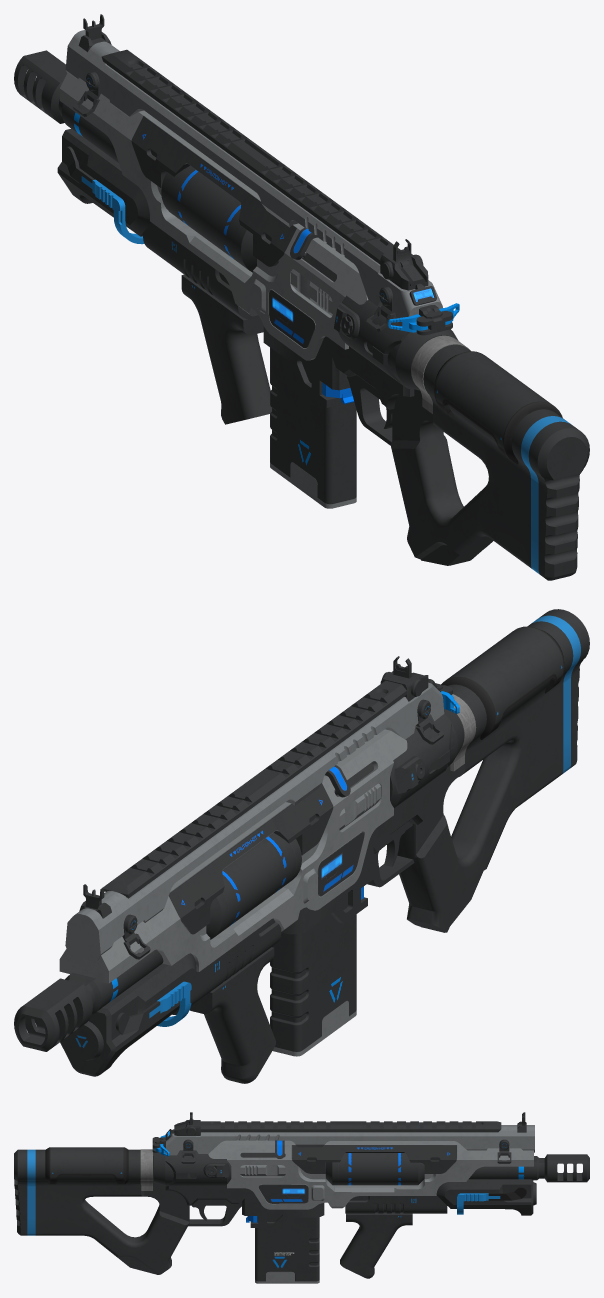
Rendered from nanite_systems_assault_rifle.glb.
3 views of the same model, one above another, from view 1: azimuth 30°, elevation 25°; view 2: azimuth 150°, elevation 25°; view 3: azimuth 270°, elevation 25° (orthographic). The views are drawn at different scales.
Parts seen in each view (by area): view 1: Cylinder.001_low, Cube.008_low, Cube.053_low, Cube.031_low, Cube.037_low, Cylinder.011_low, Slice.010_high.001, Cube.043_low, Slice.022_low, Cube.028_low, Cylinder.005_low, Cutter.080_low (+15 smaller); view 2: Cylinder.001_low, Cube.008_low, Cube.053_low, Cube.031_low, Cube.037_low, Cylinder.011_low, Slice.010_high.001, Cylinder.005_low, Cube.028_low, Slice.022_low, Cube.043_low, Cutter.080_low (+18 smaller); view 3: Cylinder.001_low, Cube.008_low, Cube.053_low, Cube.031_low, Cube.037_low, Slice.010_high.001, Cylinder.011_low, Slice.022_low, Cube.028_low, Cylinder.005_low, Cube.043_low, Cutter.080_low (+18 smaller).
Boxes of the visible parts, x1,y1,x2,y2 form: Cylinder.001_low: (391,341,589,580); Cube.008_low: (60,73,348,360); Cube.053_low: (65,30,442,326); Cube.031_low: (270,347,356,503); Cube.037_low: (101,49,400,264); Cylinder.011_low: (434,351,562,464); Slice.010_high.001: (131,114,302,266); Cube.043_low: (181,274,271,424); Slice.022_low: (167,166,242,265); Cube.028_low: (57,128,151,236); Cylinder.005_low: (14,50,118,162); Cutter.080_low: (143,222,259,319); Cylinder.001_low: (397,609,589,932); Cube.008_low: (59,751,393,983); Cube.053_low: (65,682,444,960); Cube.031_low: (270,893,356,1051); Cube.037_low: (102,680,406,898); Cylinder.011_low: (441,626,564,739); Slice.010_high.001: (168,783,333,934); Cylinder.005_low: (14,949,163,1051); Cube.028_low: (60,953,196,1076); Slice.022_low: (220,832,296,932); Cube.043_low: (190,947,275,1083); Cutter.080_low: (172,918,281,1014); Cylinder.001_low: (14,1149,189,1274); Cube.008_low: (227,1142,533,1209); Cube.053_low: (166,1125,534,1155); Cube.031_low: (255,1213,319,1281); Cube.037_low: (200,1121,501,1132); Slice.010_high.001: (291,1141,456,1173); Cylinder.011_low: (45,1147,128,1184); Slice.022_low: (338,1153,411,1185); Cube.028_low: (436,1179,533,1215); Cylinder.005_low: (469,1154,589,1182); Cube.043_low: (340,1212,412,1278); Cutter.080_low: (345,1195,447,1213).
Bounding box in the file's own units: 0.8138 × 3.04 × 9.56.
Materials: 5 (5 with a texture image).
